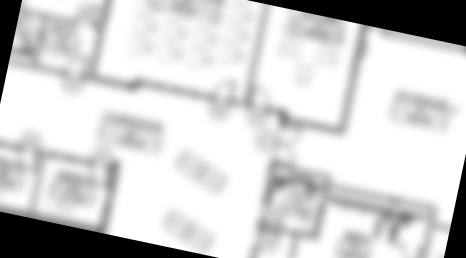door: (84, 161, 113, 190), (13, 147, 41, 175), (212, 75, 238, 104), (248, 85, 274, 111), (64, 51, 89, 78), (375, 222, 396, 245), (399, 243, 422, 258)
double door: (271, 123, 303, 168)
wall: (336, 25, 370, 138), (0, 199, 102, 233), (326, 183, 440, 213), (88, 0, 119, 79), (382, 30, 466, 57), (279, 115, 356, 142), (312, 171, 335, 242), (411, 203, 439, 258), (254, 221, 322, 243), (265, 162, 336, 183), (9, 58, 67, 77), (21, 8, 79, 27), (81, 73, 136, 93), (259, 160, 279, 206), (32, 16, 49, 67), (108, 158, 121, 191), (97, 206, 112, 234), (287, 233, 303, 258), (248, 246, 260, 258), (462, 47, 466, 69)
